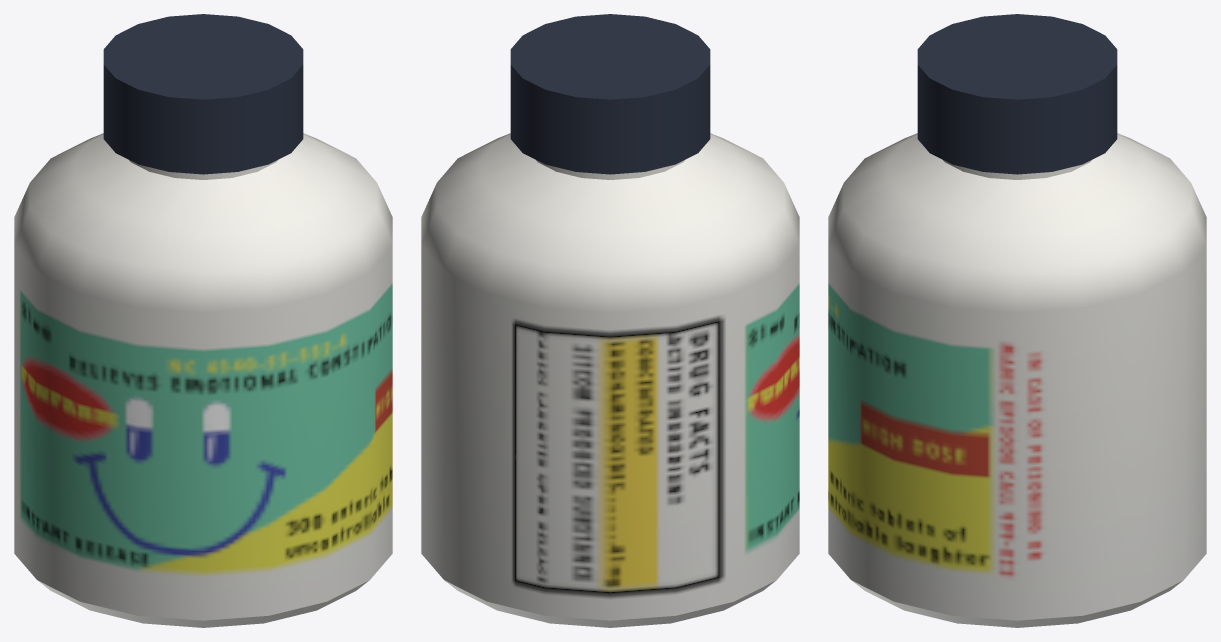
Rendered from LaughPills.fbx.
The picture shows the model from 3 angles, left to right: view 1: azimuth 30°, elevation 25°; view 2: azimuth 150°, elevation 25°; view 3: azimuth 270°, elevation 25°; orthographic projection.
Parts seen in each view (by area): view 1: PillsBottle; view 2: PillsBottle; view 3: PillsBottle.
Part boxes in pixels (x1=…): PillsBottle: x1=14, y1=14, x2=392, y2=627; PillsBottle: x1=421, y1=14, x2=799, y2=627; PillsBottle: x1=828, y1=14, x2=1206, y2=627.
Bounding box in the file's own units: 2 × 2.85 × 1.97.
